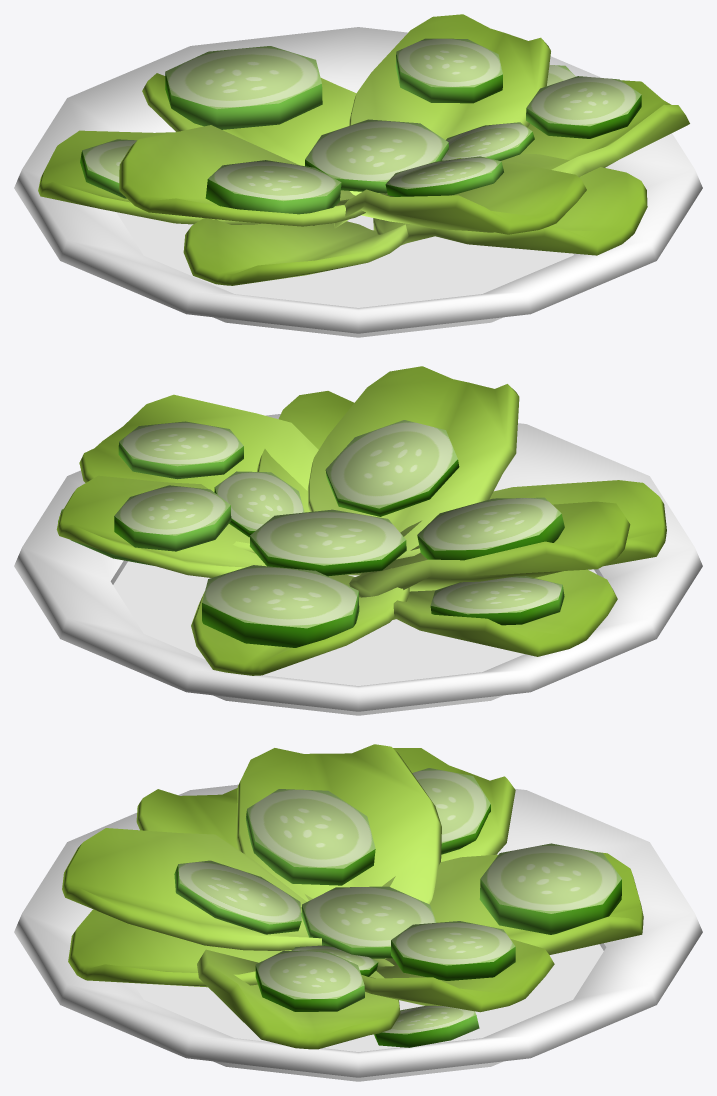
The model's file is CucumberLettuceSalad.fbx.
3 renders of one model, top to bottom at view 1: azimuth 30°, elevation 25°; view 2: azimuth 150°, elevation 25°; view 3: azimuth 270°, elevation 25°, orthographic.
Parts seen in each view (by area): view 1: Plate.002, LettuceSalad.019, LettuceSalad.025, LettuceSalad.022, CucumberSalad.024, LettuceSalad.024, LettuceSalad.021, CucumberSalad.028, CucumberSalad.027, CucumberSalad.026, CucumberSalad.029, LettuceSalad.026 (+5 smaller); view 2: Plate.002, LettuceSalad.024, CucumberSalad.024, LettuceSalad.025, CucumberSalad.025, LettuceSalad.026, LettuceSalad.023, LettuceSalad.019, CucumberSalad.028, CucumberSalad.027, CucumberSalad.026, LettuceSalad.018 (+5 smaller); view 3: Plate.002, LettuceSalad.025, LettuceSalad.024, CucumberSalad.024, CucumberSalad.027, LettuceSalad.026, LettuceSalad.021, LettuceSalad.018, CucumberSalad.028, LettuceSalad.019, CucumberSalad.026, CucumberSalad.025 (+6 smaller).
Part boxes in pixels (left/top/right/bottom): Plate.002: left=14, top=27, right=702, bottom=337; LettuceSalad.019: left=349, top=14, right=550, bottom=139; LettuceSalad.025: left=119, top=125, right=365, bottom=226; LettuceSalad.022: left=183, top=218, right=408, bottom=285; CucumberSalad.024: left=165, top=46, right=322, bottom=129; LettuceSalad.024: left=333, top=158, right=586, bottom=234; LettuceSalad.021: left=373, top=153, right=647, bottom=255; CucumberSalad.028: left=305, top=119, right=448, bottom=193; CucumberSalad.027: left=205, top=160, right=341, bottom=214; CucumberSalad.026: left=395, top=38, right=502, bottom=103; CucumberSalad.029: left=526, top=76, right=641, bottom=138; LettuceSalad.026: left=521, top=80, right=689, bottom=177; Plate.002: left=14, top=414, right=702, bottom=715; LettuceSalad.024: left=307, top=366, right=519, bottom=559; CucumberSalad.024: left=202, top=565, right=359, bottom=647; LettuceSalad.025: left=349, top=501, right=630, bottom=597; CucumberSalad.025: left=325, top=420, right=459, bottom=516; LettuceSalad.026: left=79, top=394, right=318, bottom=553; LettuceSalad.023: left=393, top=569, right=617, bottom=656; LettuceSalad.019: left=56, top=475, right=266, bottom=577; CucumberSalad.028: left=250, top=509, right=406, bottom=576; CucumberSalad.027: left=417, top=497, right=564, bottom=560; CucumberSalad.026: left=114, top=485, right=231, bottom=551; LettuceSalad.018: left=191, top=568, right=409, bottom=675; Plate.002: left=14, top=784, right=702, bottom=1081; LettuceSalad.025: left=236, top=744, right=441, bottom=912; LettuceSalad.024: left=62, top=828, right=321, bottom=950; CucumberSalad.024: left=479, top=843, right=621, bottom=934; CucumberSalad.027: left=246, top=789, right=375, bottom=885; LettuceSalad.026: left=197, top=949, right=400, bottom=1049; LettuceSalad.021: left=68, top=909, right=291, bottom=987; LettuceSalad.018: left=372, top=852, right=643, bottom=966; CucumberSalad.028: left=301, top=886, right=436, bottom=958; LettuceSalad.019: left=361, top=938, right=554, bottom=1012; CucumberSalad.026: left=391, top=921, right=515, bottom=980; CucumberSalad.025: left=174, top=860, right=301, bottom=934.
Bounding box in the file's own units: 0.6132 × 0.1266 × 0.6132.
3 materials, 3 textured.
